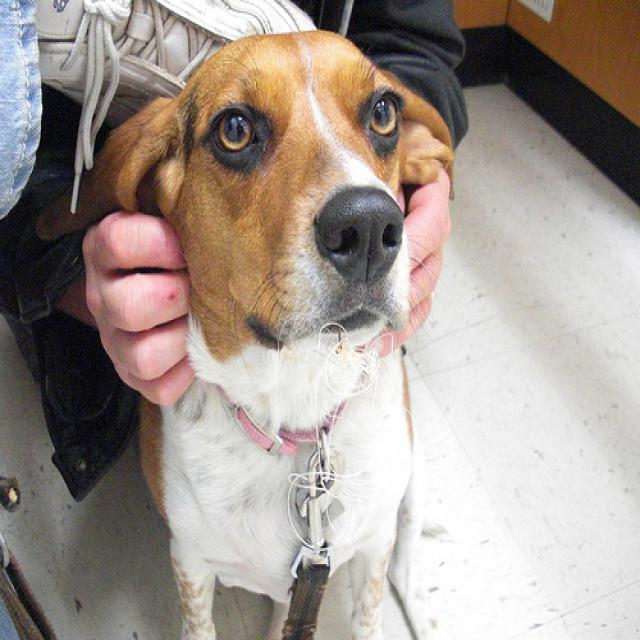dog-beagle: (20, 21, 461, 637)
